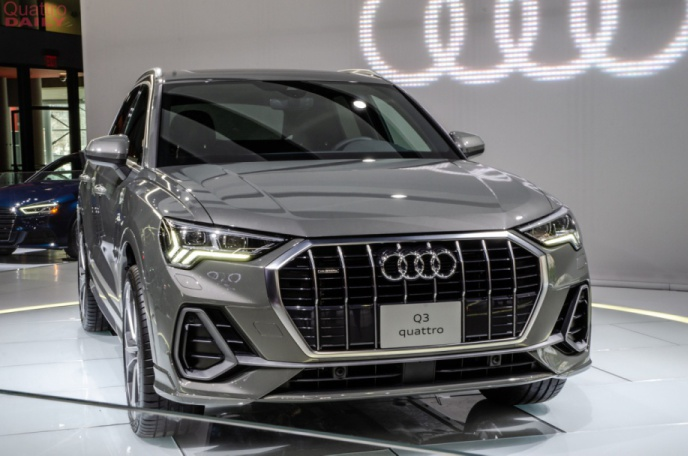audi: (376, 251, 463, 284)
